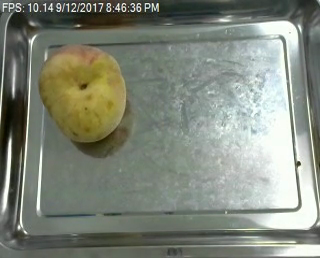Peach: (37, 43, 127, 143)
